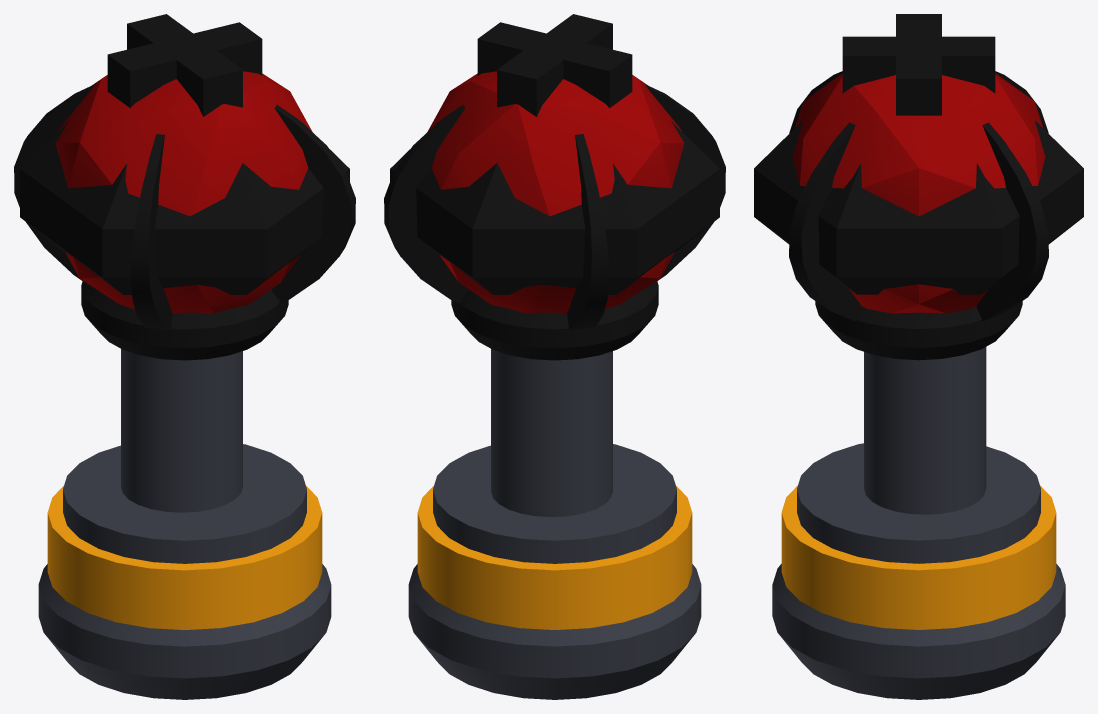
Rendered from tower_antique_bloodstone.obj.
3 views of the same model, side by side, from view 1: azimuth 30°, elevation 25°; view 2: azimuth 150°, elevation 25°; view 3: azimuth 270°, elevation 25° (orthographic).
Parts seen in each view (by area): view 1: mergedBlocks; view 2: mergedBlocks; view 3: mergedBlocks.
Part boxes in pixels (box(x1,y1,x2,y2)): mergedBlocks: box(14, 14, 355, 699); mergedBlocks: box(384, 14, 725, 699); mergedBlocks: box(754, 14, 1083, 699).
Bounding box in the file's own units: 0.96 × 2.18 × 1.08.
